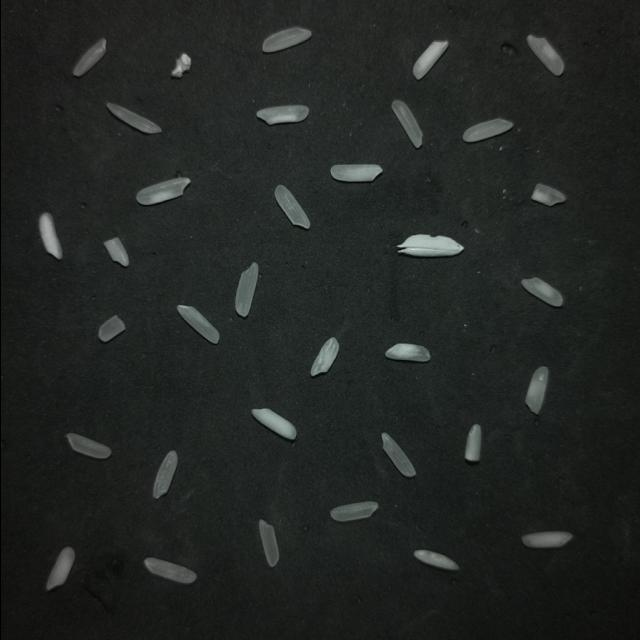broken: (98, 315, 125, 341)
chalky: (527, 34, 564, 75), (136, 176, 190, 204), (251, 408, 296, 439), (144, 556, 197, 582), (413, 40, 448, 79), (46, 546, 75, 590), (309, 337, 339, 377), (521, 277, 563, 305), (153, 450, 178, 497), (526, 366, 549, 413), (39, 212, 62, 259), (257, 105, 309, 124), (414, 549, 459, 569), (331, 163, 382, 180), (522, 530, 572, 547), (385, 343, 430, 360), (531, 183, 565, 205), (104, 237, 129, 265), (465, 423, 482, 460)
foreign: (398, 234, 464, 255), (171, 52, 191, 77)
whole: (107, 102, 161, 132), (177, 305, 219, 342), (381, 432, 415, 476), (275, 185, 310, 227), (392, 100, 422, 147), (235, 262, 258, 316), (73, 38, 106, 75), (263, 26, 311, 51), (463, 118, 513, 141), (66, 432, 111, 457), (330, 501, 378, 520), (260, 519, 279, 565)
